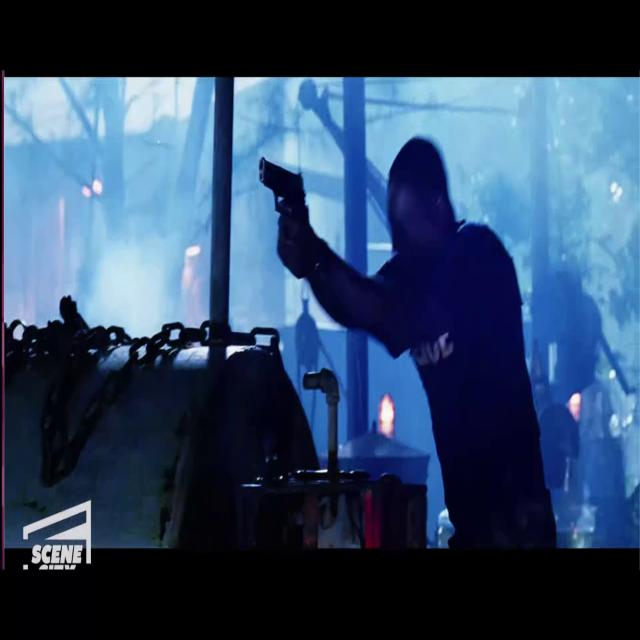weapons: (252, 136, 319, 285)
